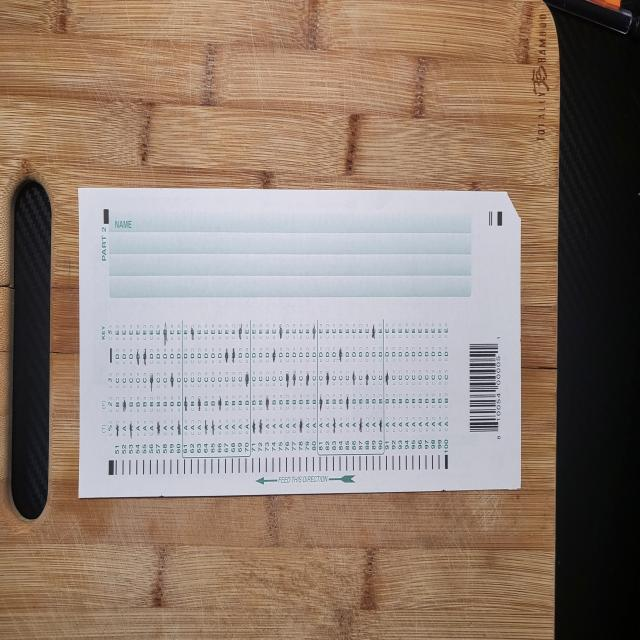scantron_back: (78, 187, 521, 499)
